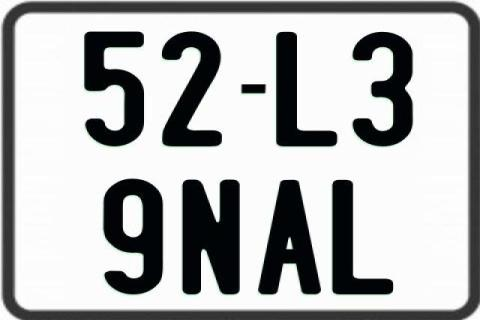0: (81, 30, 144, 146), (159, 30, 219, 150), (100, 177, 161, 295), (353, 31, 413, 145)
A: (255, 178, 322, 294)
L: (332, 178, 399, 294), (274, 30, 338, 148)
N: (180, 178, 241, 294)
